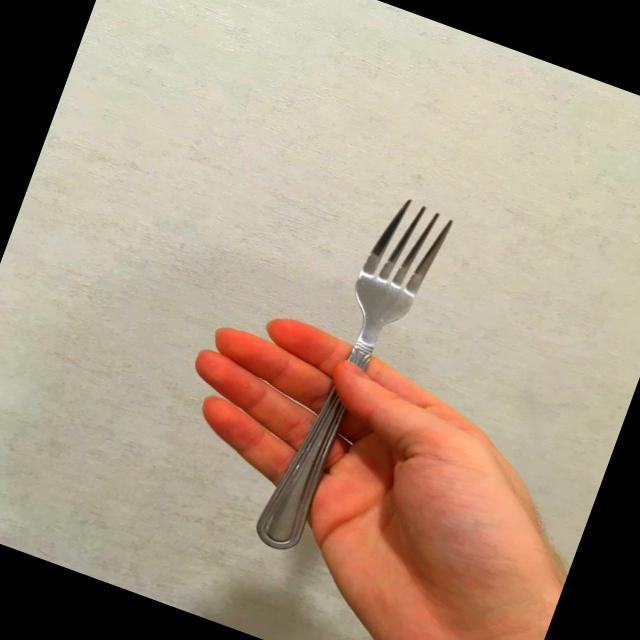fork: (248, 186, 464, 571)
